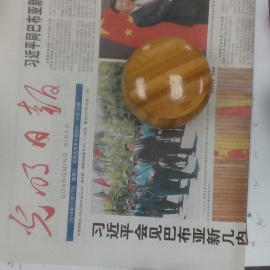chess: (119, 39, 213, 129)
